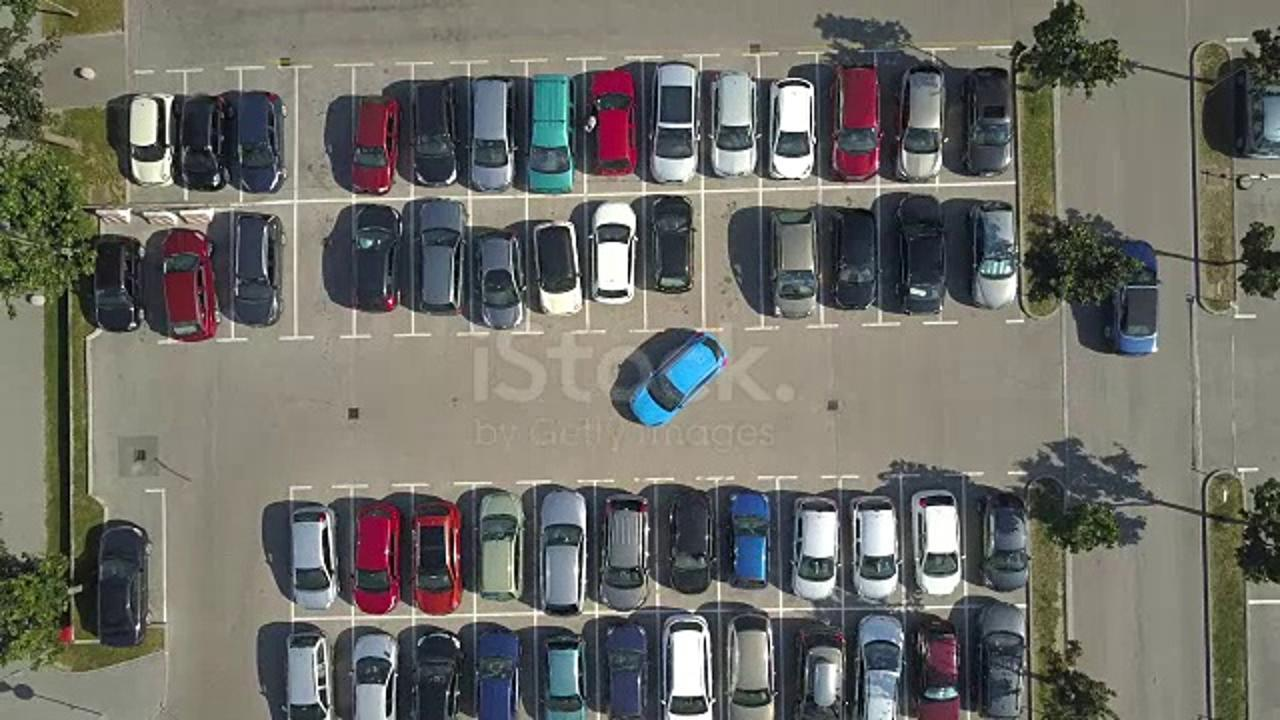car: (465, 227, 533, 333), (345, 500, 407, 614), (660, 606, 722, 720), (726, 606, 788, 720), (784, 495, 846, 609), (592, 493, 654, 607), (471, 492, 533, 606), (657, 492, 719, 606), (850, 493, 912, 607), (976, 606, 1038, 720), (231, 209, 287, 331), (345, 204, 406, 315), (404, 75, 465, 186), (585, 196, 646, 307), (227, 88, 288, 199), (286, 503, 347, 614), (648, 192, 706, 301)
